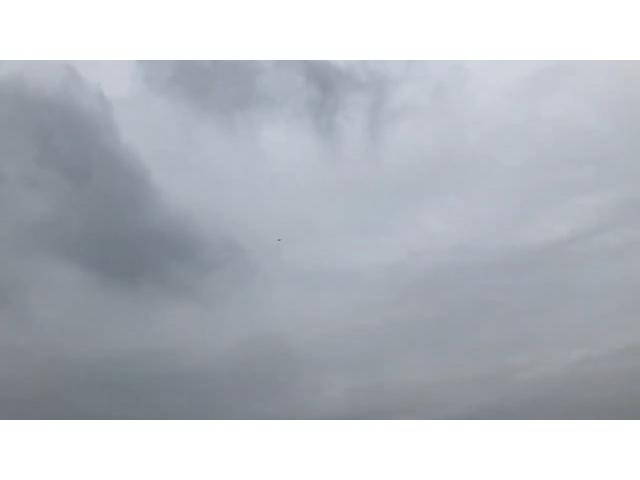Anti-Drone: (272, 231, 288, 245)
